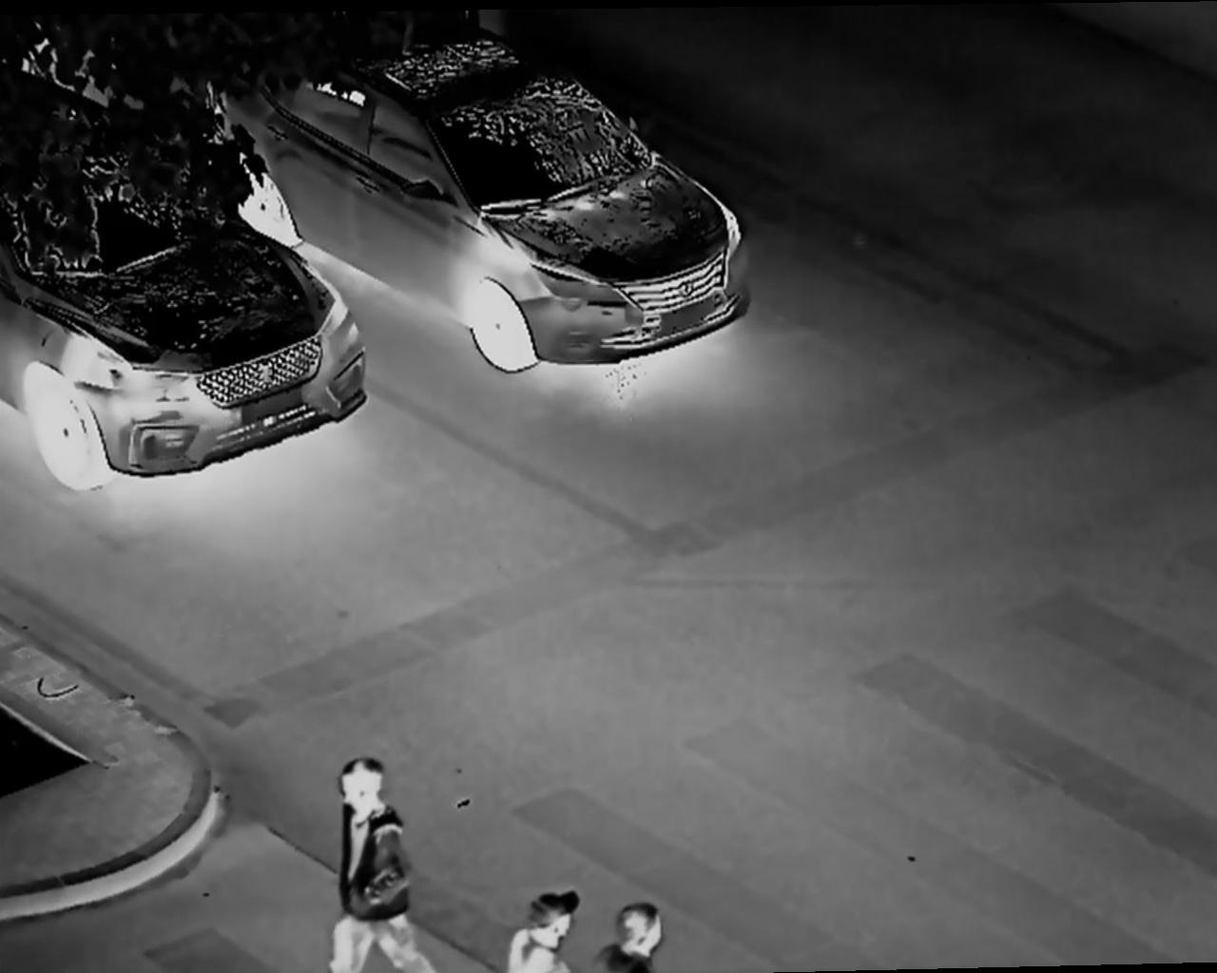person: (309, 749, 423, 973), (598, 894, 692, 973), (514, 888, 564, 973)
